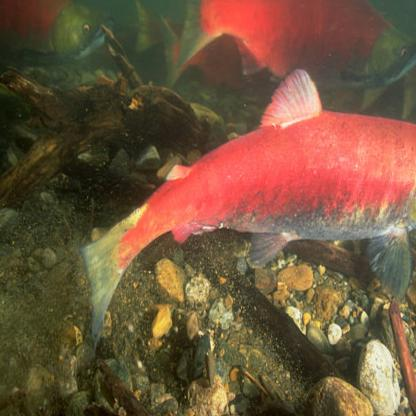sockeye: (107, 96, 416, 284)
